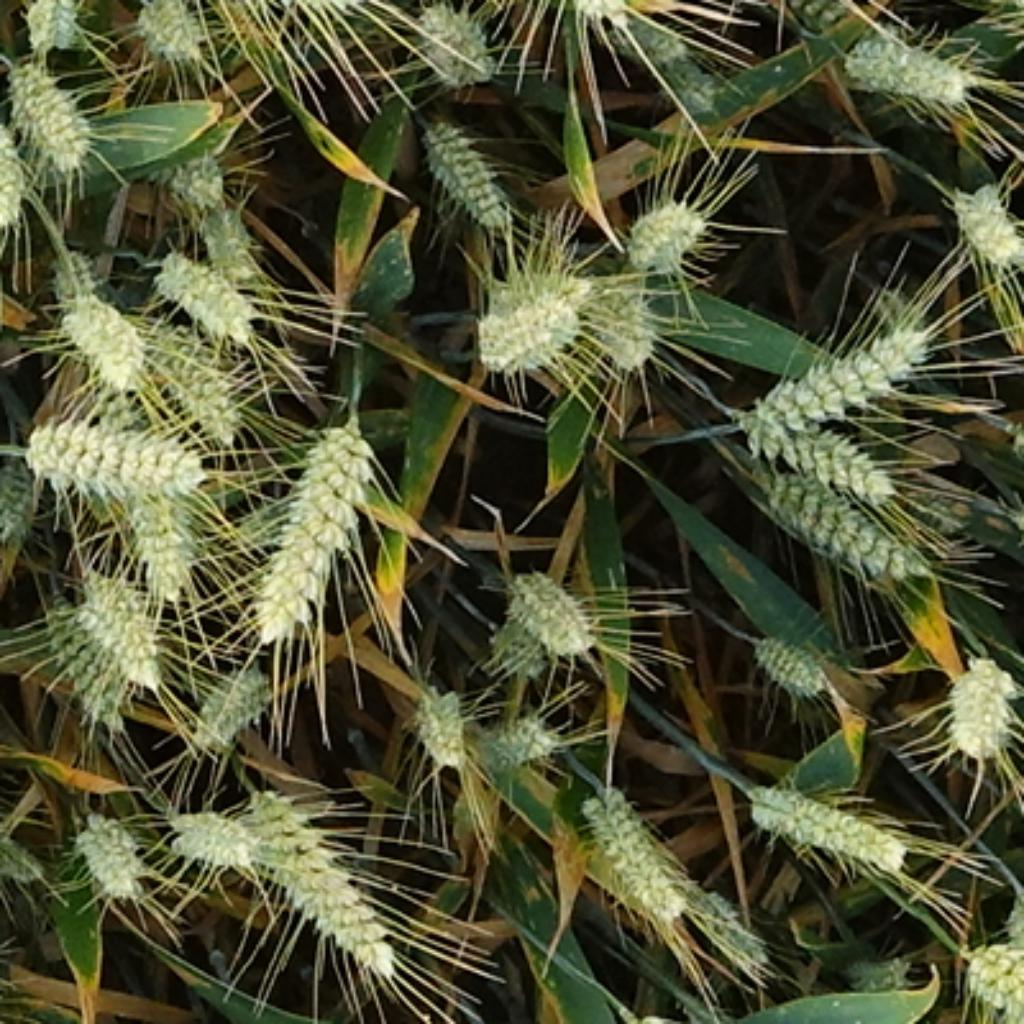0-0: (245, 409, 394, 642), (238, 775, 407, 975), (739, 325, 936, 442), (15, 407, 212, 512), (760, 478, 926, 588), (573, 770, 691, 919), (465, 240, 596, 371), (739, 778, 911, 875), (732, 407, 901, 501), (140, 322, 258, 445), (409, 102, 514, 225), (40, 588, 128, 734), (838, 26, 979, 112), (76, 565, 168, 691), (51, 268, 151, 381), (151, 240, 261, 337), (2, 51, 97, 161), (670, 865, 770, 965), (931, 650, 1016, 762), (212, 0, 405, 49), (128, 499, 212, 611), (506, 563, 599, 655), (66, 798, 151, 896), (184, 655, 276, 744), (614, 184, 711, 266), (407, 0, 501, 81), (581, 266, 657, 366), (544, 0, 696, 49), (950, 179, 1024, 277), (166, 793, 263, 862), (750, 629, 837, 704), (468, 698, 560, 768), (404, 673, 473, 765), (604, 12, 711, 71), (143, 138, 227, 207), (194, 197, 261, 266), (657, 56, 729, 120), (478, 616, 558, 673), (130, 0, 207, 58), (844, 947, 924, 998), (46, 240, 107, 302), (0, 445, 40, 537), (0, 826, 53, 893), (20, 0, 89, 46), (0, 118, 27, 226)
